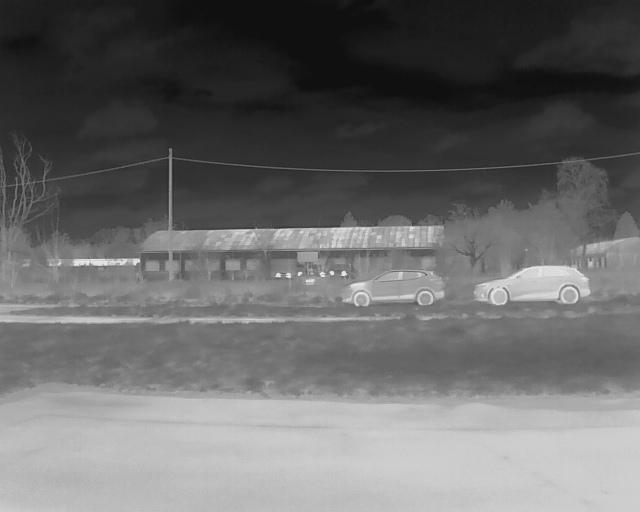drone: (270, 261, 351, 310)
